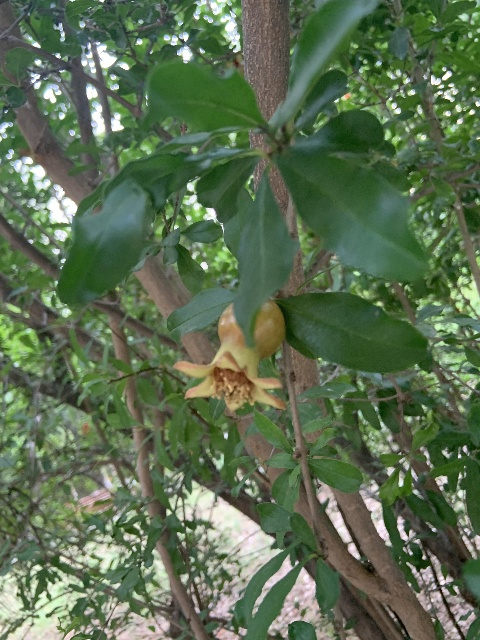early-fruit: (173, 299, 287, 415)
